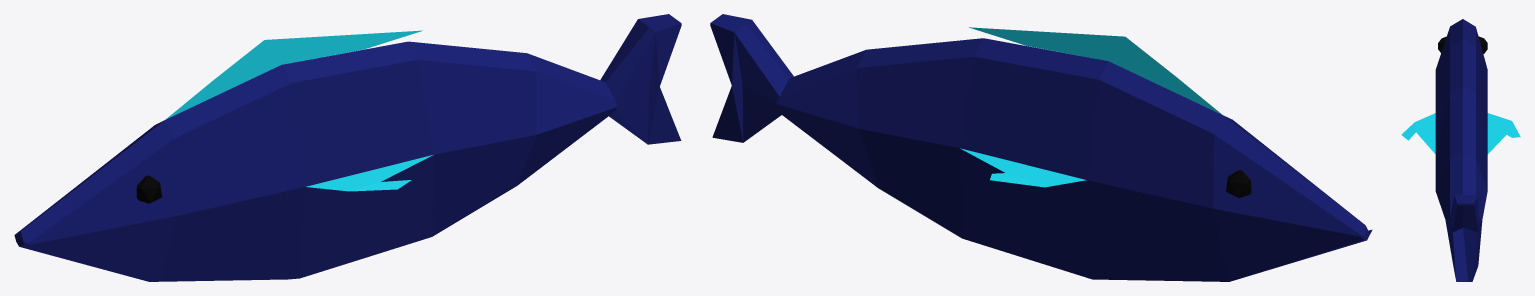
Rendered from Fish.fbx.
3 renders of one model, left to right at view 1: azimuth 30°, elevation 25°; view 2: azimuth 150°, elevation 25°; view 3: azimuth 270°, elevation 25°, orthographic. The views are drawn at different scales.
Visible parts, largest first — view 1: Plane, Icosphere; view 2: Plane, Icosphere; view 3: Plane, Icosphere.
Boxes of the visible parts, left/top/right/bottom form: Plane: left=14, top=14, right=681, bottom=281; Icosphere: left=136, top=175, right=162, bottom=203; Plane: left=710, top=14, right=1372, bottom=281; Icosphere: left=1226, top=170, right=1251, bottom=197; Plane: left=1401, top=19, right=1520, bottom=281; Icosphere: left=1438, top=36, right=1487, bottom=53.
Size of the model in its own units: 4.37 by 1.56 by 1.02.
